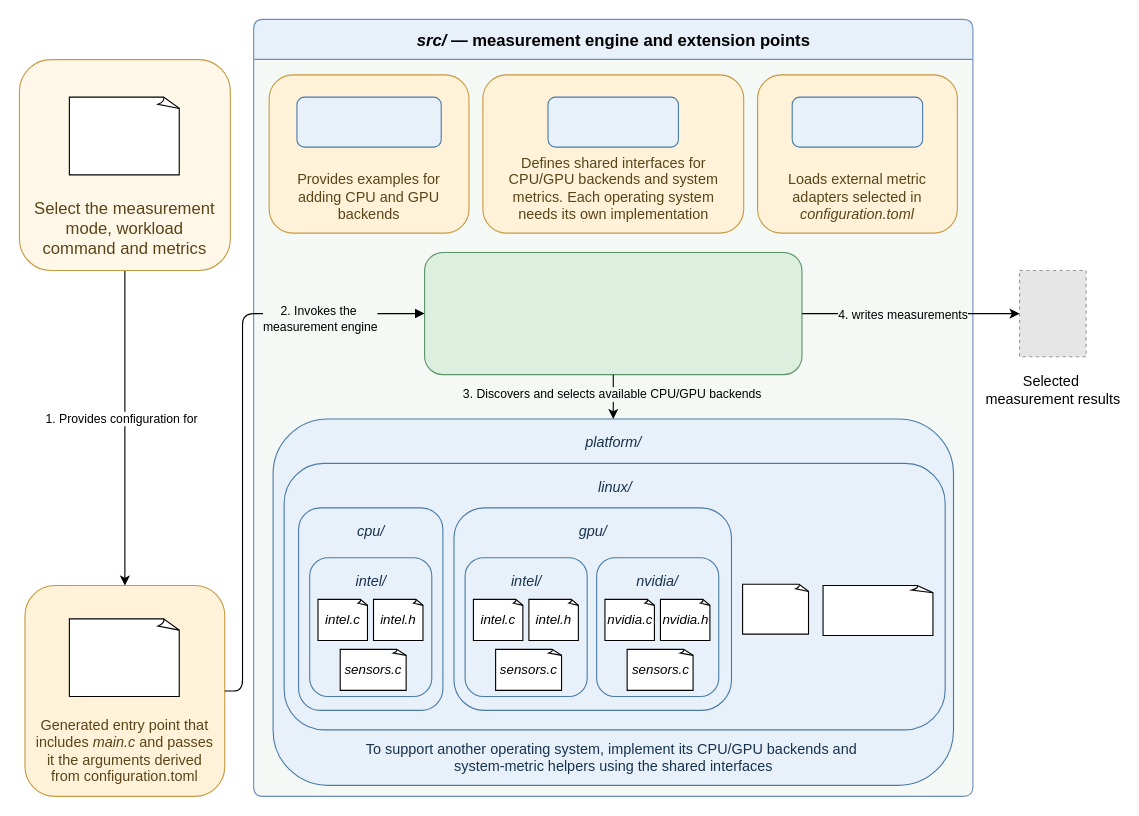
Image size: 1139x816. Some labels were removed from this diagram. Grey dashed boxes stand in for pictures. Here are the shapes that lost their labels. From the top down, the centre of each, then its label:
the point at 124,135: configuration.toml
the point at 368,121: backend-templates/
the point at 612,121: include/
the point at 857,121: metric-adapters/
the point at 612,313: main.c Responsible for orchestrating GreenMeasurer
the point at 775,608: memory.c
the point at 878,609: system_metrics.c
the point at 124,657: greenmeasurer.c
